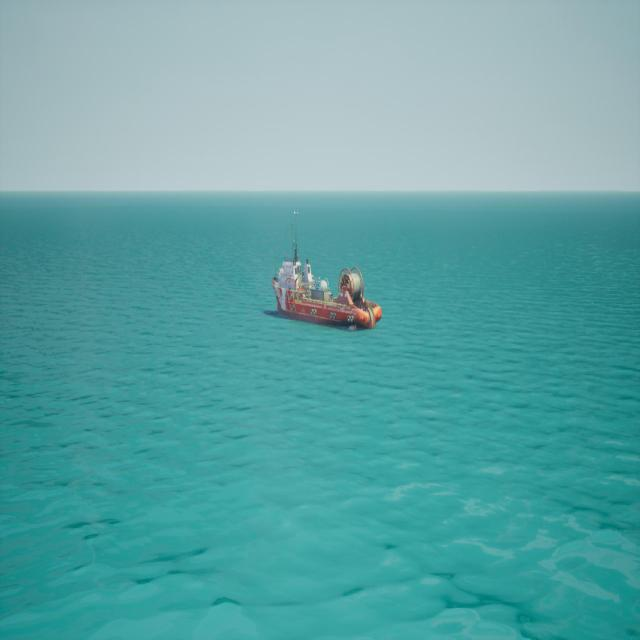tug boat: (267, 214, 379, 334)
